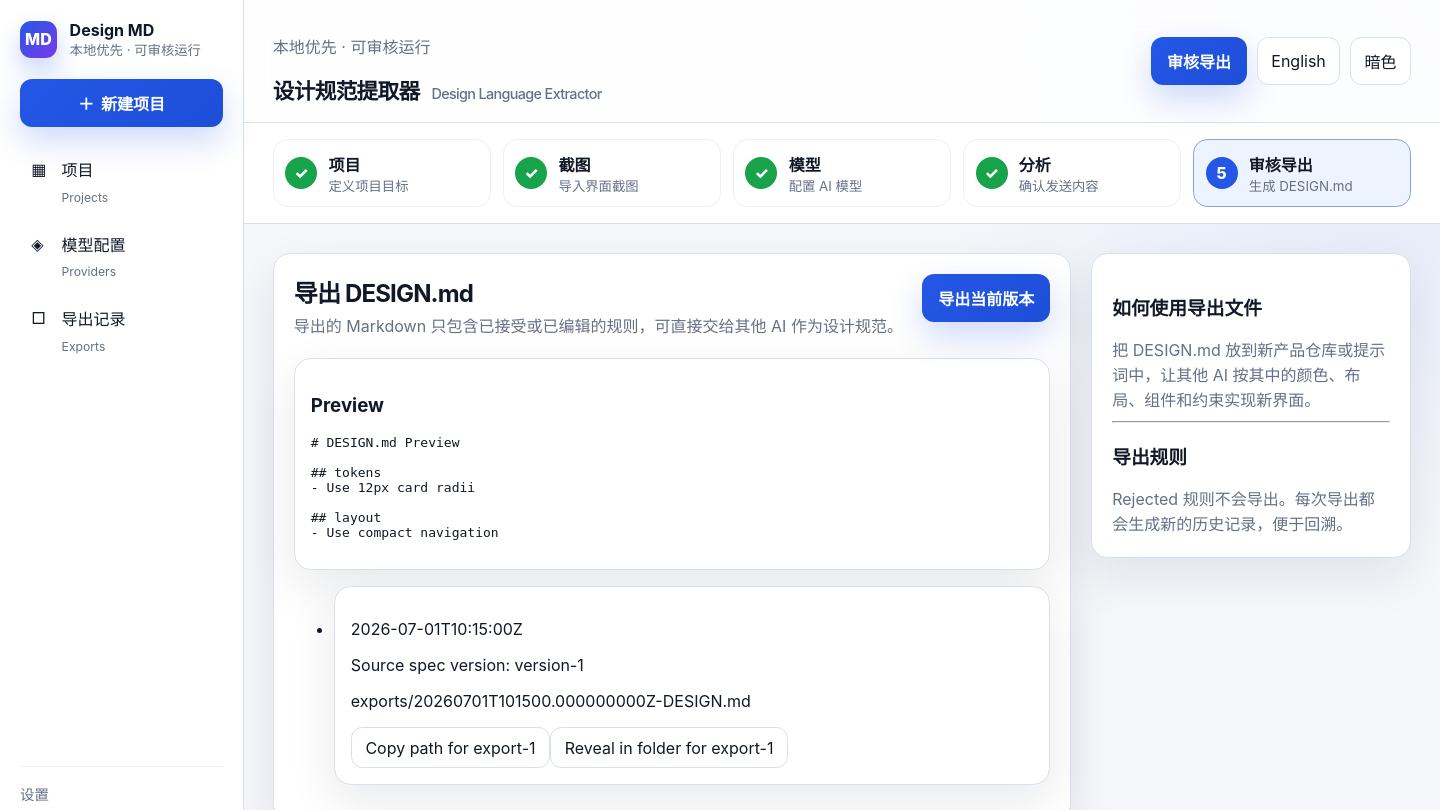
Test case: ExportHistoryPage › exports the current version and refreshes history
Click the button with aria-label "Export current version": (986, 298) [922, 274, 1050, 322]
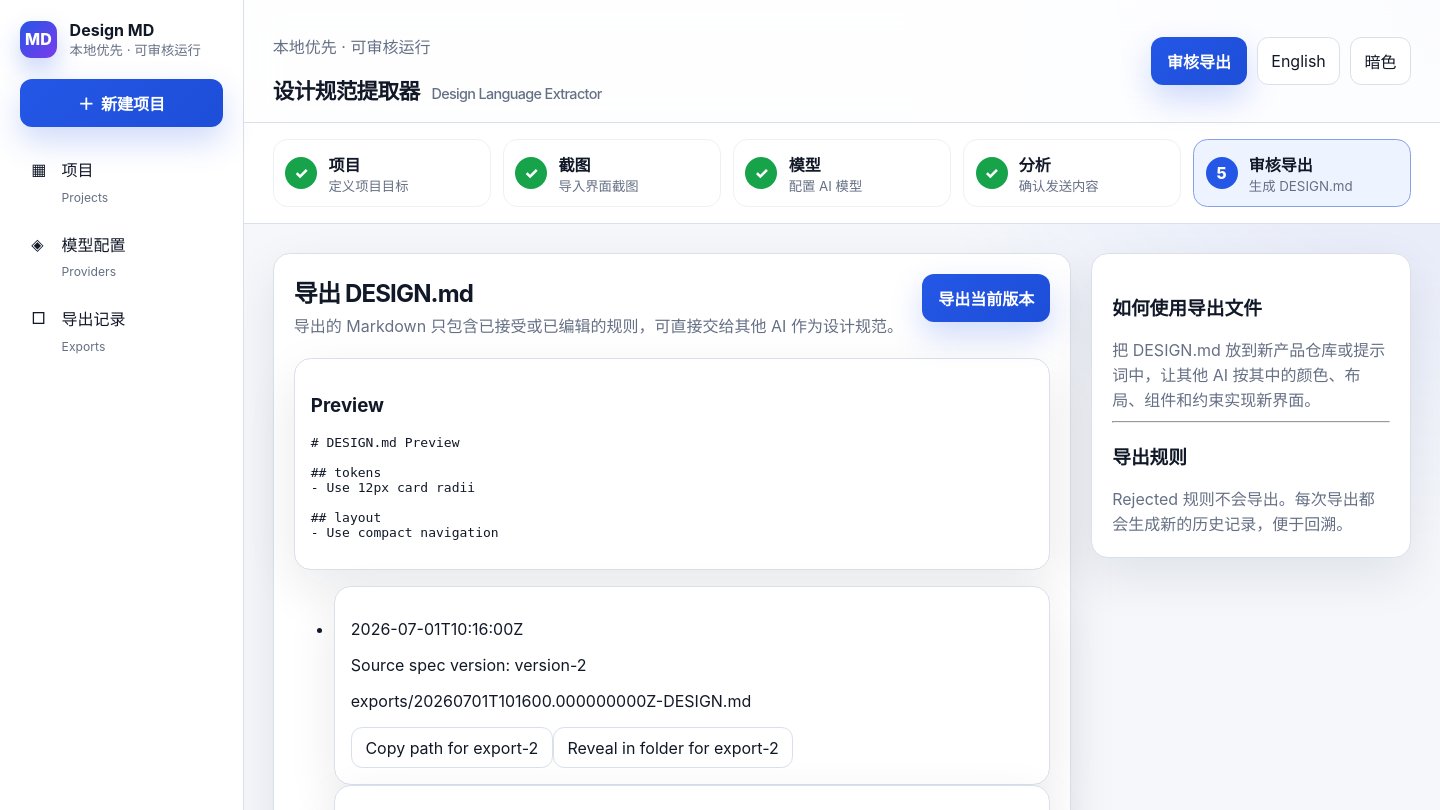
Expected: the text "Source spec version: version-2" is shown, [351, 655, 587, 675]
